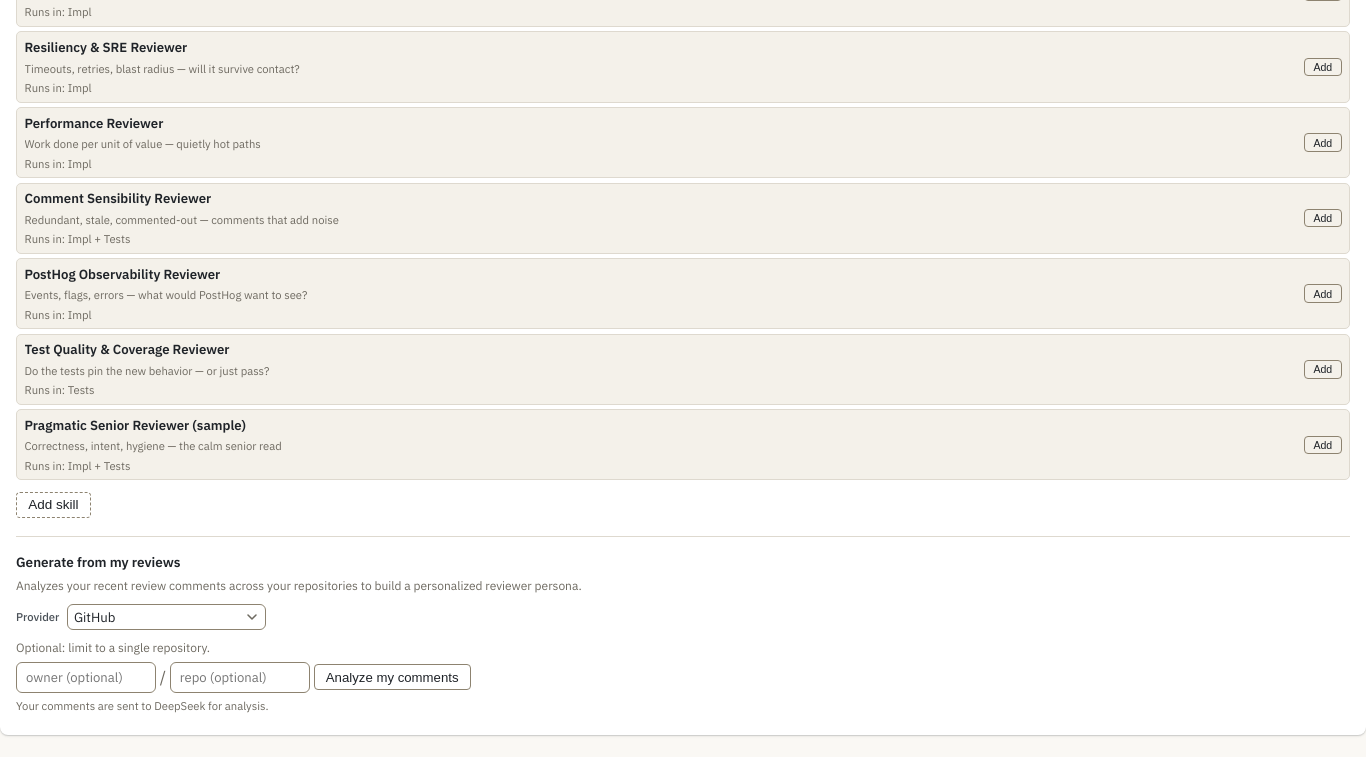
Test case: SkillsSection — account-wide mining UI › analyze button is disabled when only one filter field is filled
(page scrolled)
In the field named "repository owner": (86, 677) x1=16 y1=662 x2=156 y2=693, type "myorg"
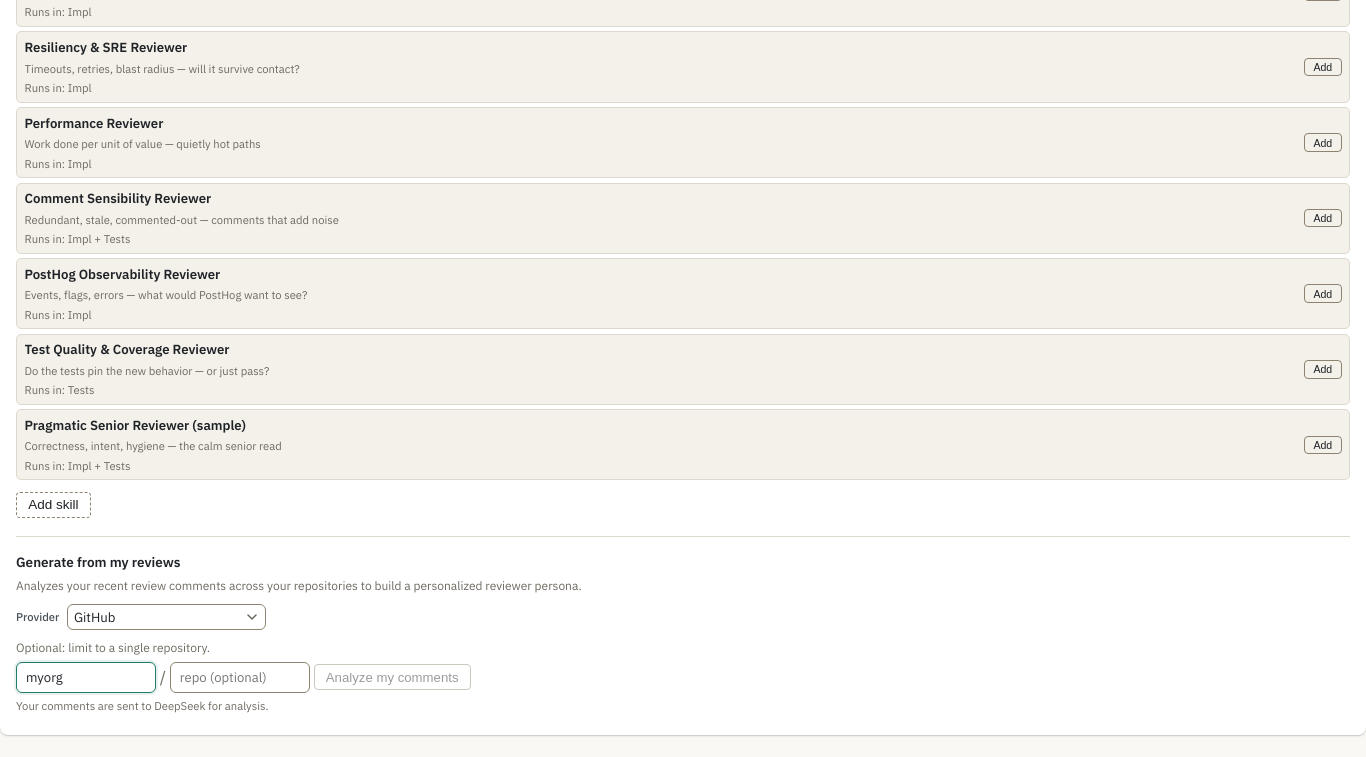
Expected: the button "Analyze my comments" is disabled, x1=314 y1=664 x2=471 y2=690
